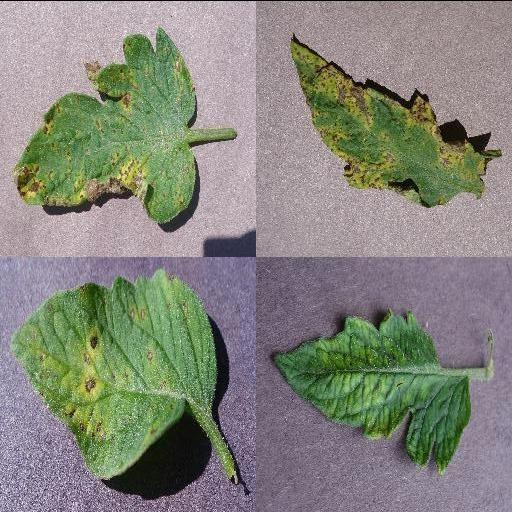Mosaic Virus: (271, 305, 471, 479)
Septoria: (13, 269, 219, 481), (12, 26, 198, 221), (288, 36, 500, 205)
